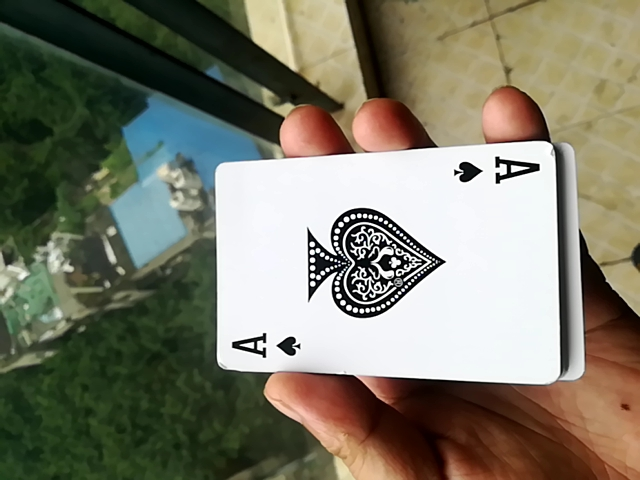ht a: (212, 143, 565, 396)
